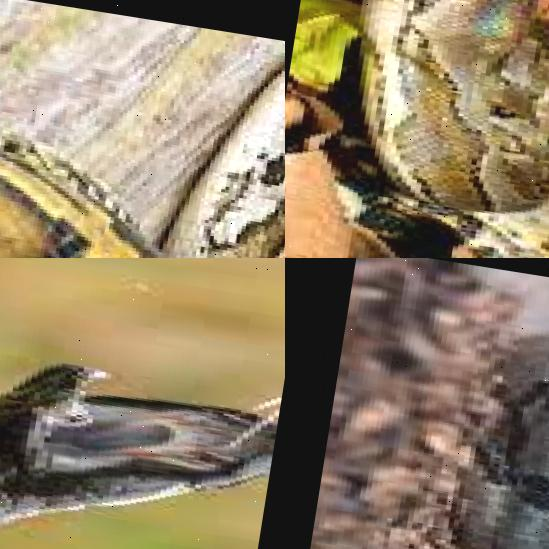snake: (0, 0, 285, 258), (0, 313, 283, 549), (329, 0, 549, 258), (374, 258, 549, 549)
